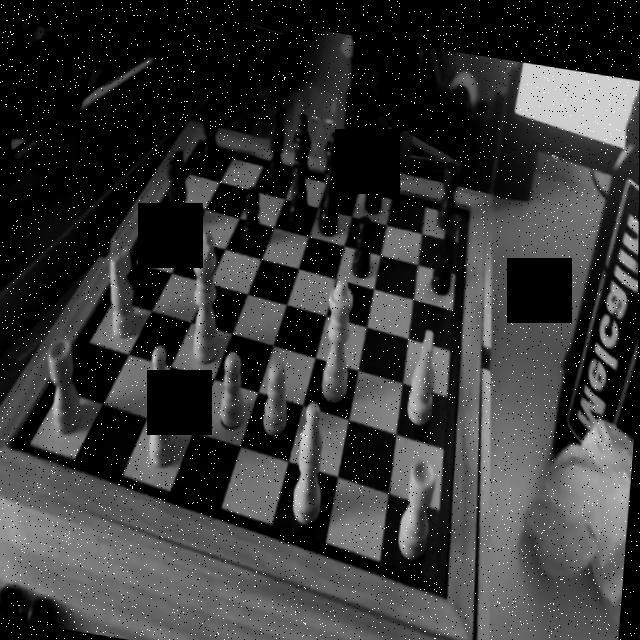chess-table-corners: (429, 567, 458, 599), (0, 427, 27, 459), (185, 122, 209, 150), (460, 186, 478, 211)
